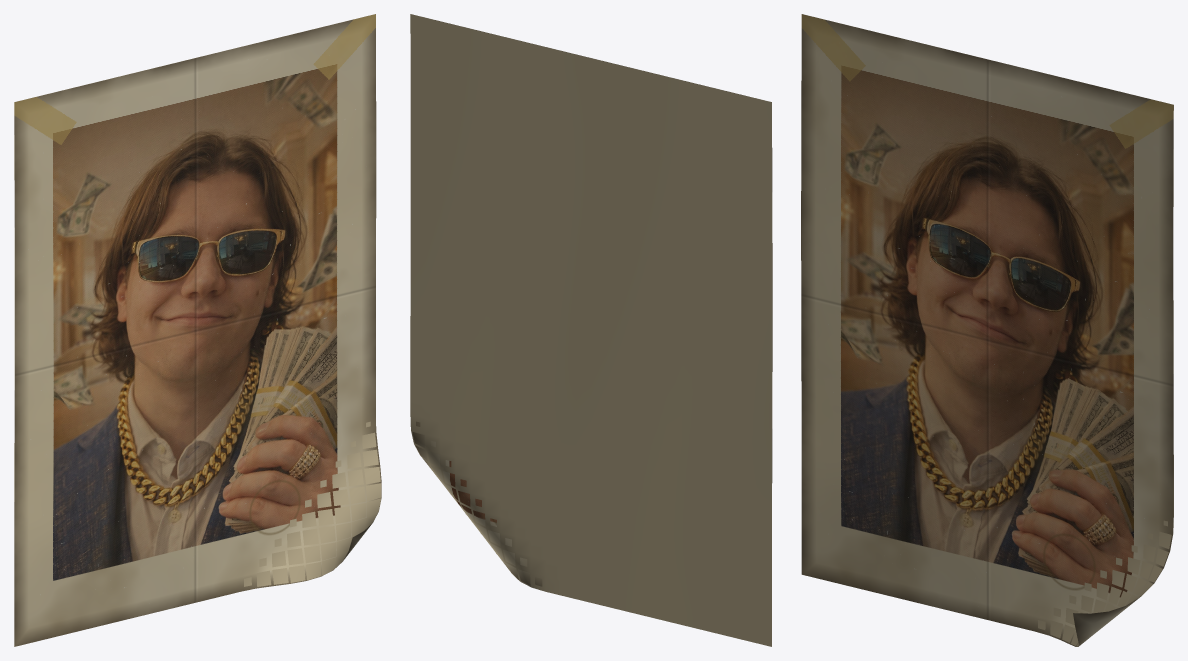
The model's file is Poster.fbx.
The picture shows the model from 3 angles, left to right: view 1: azimuth 30°, elevation 25°; view 2: azimuth 150°, elevation 25°; view 3: azimuth 330°, elevation 25°; orthographic projection. The views are drawn at different scales.
Parts seen in each view (by area): view 1: Poster_Mesh; view 2: Poster_Mesh; view 3: Poster_Mesh.
Boxes of the visible parts, left/top/right/bottom form: Poster_Mesh: left=14, top=14, right=381, bottom=646; Poster_Mesh: left=410, top=14, right=772, bottom=646; Poster_Mesh: left=801, top=14, right=1173, bottom=646.
Size of the model in its own units: 0.5 by 0.72 by 0.09.
